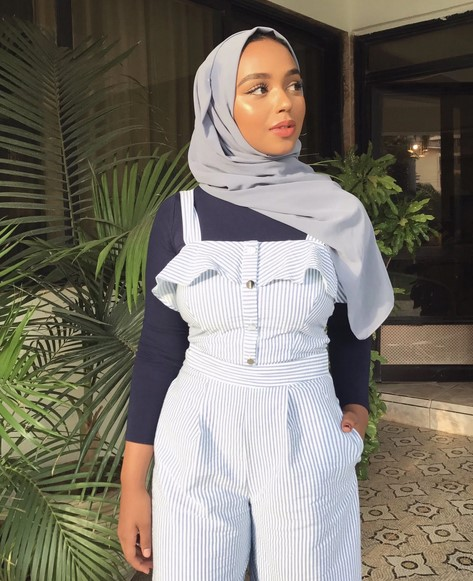face_no_mask: (223, 30, 309, 160)
